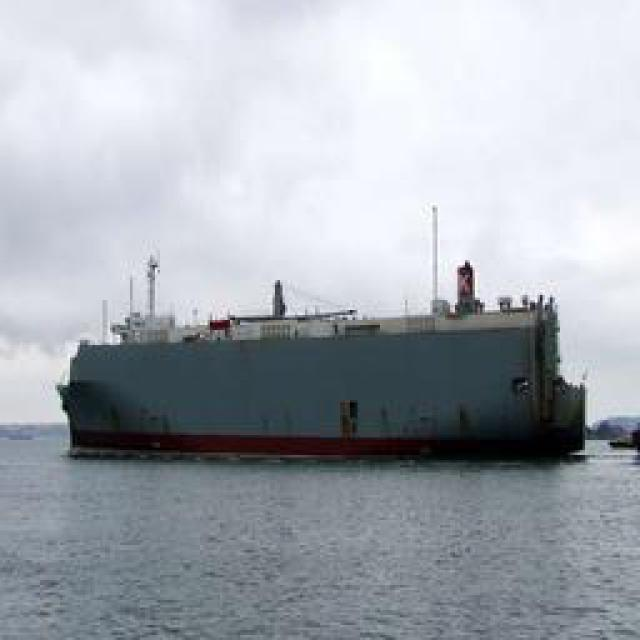Ship: (60, 289, 583, 469)
